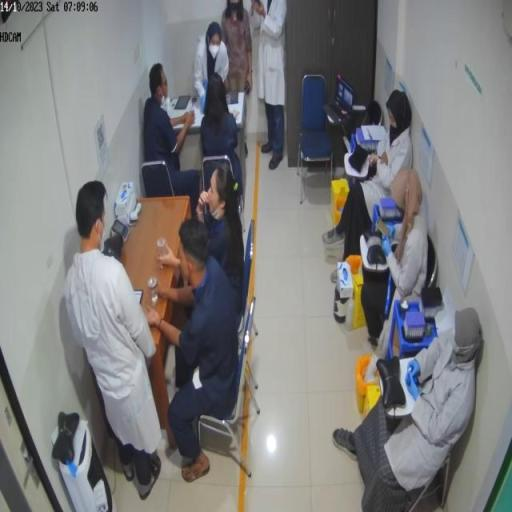person: (65, 182, 174, 500), (337, 307, 484, 508), (146, 217, 240, 483), (323, 87, 414, 261), (360, 169, 429, 350), (145, 63, 199, 214), (197, 166, 247, 314), (253, 2, 289, 171), (202, 75, 243, 208), (194, 23, 231, 110), (222, 2, 254, 97)
